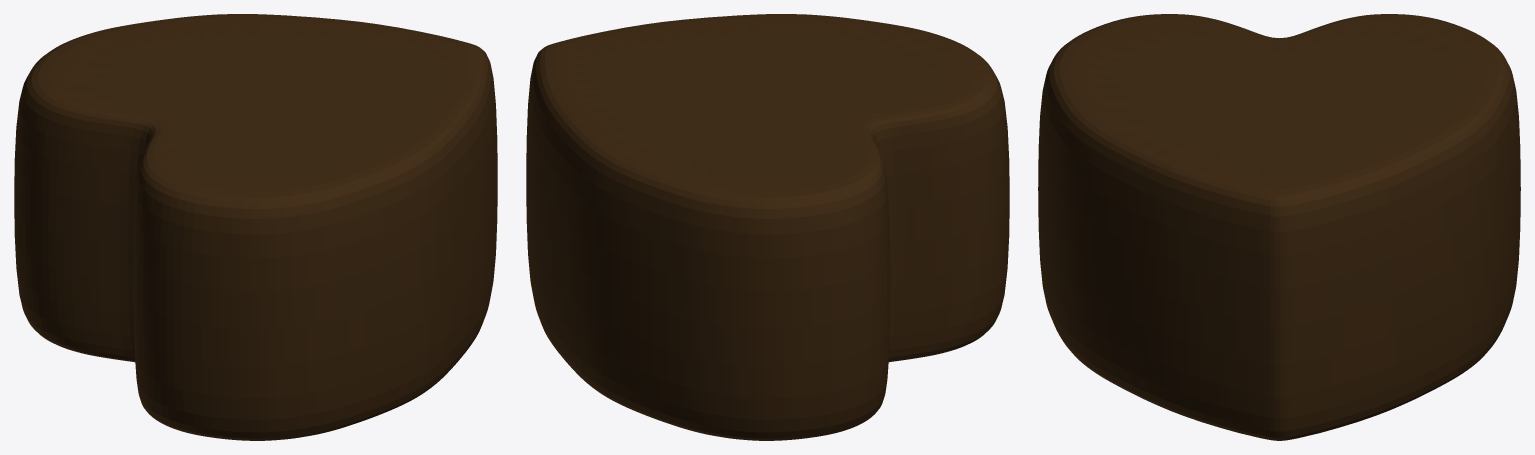
The model's file is CakeBigLayerChoco.glb.
The picture shows the model from 3 angles, left to right: view 1: azimuth 30°, elevation 25°; view 2: azimuth 150°, elevation 25°; view 3: azimuth 270°, elevation 25°; orthographic projection.
Visible parts, largest first — view 1: Cylinder.007; view 2: Cylinder.007; view 3: Cylinder.007.
Part boxes in pixels (x1,y1,x2,y2): Cylinder.007: (14, 14, 497, 440); Cylinder.007: (526, 14, 1009, 440); Cylinder.007: (1038, 14, 1520, 440).
Bounding box in the file's own units: 1.62 × 0.9364 × 1.66.
